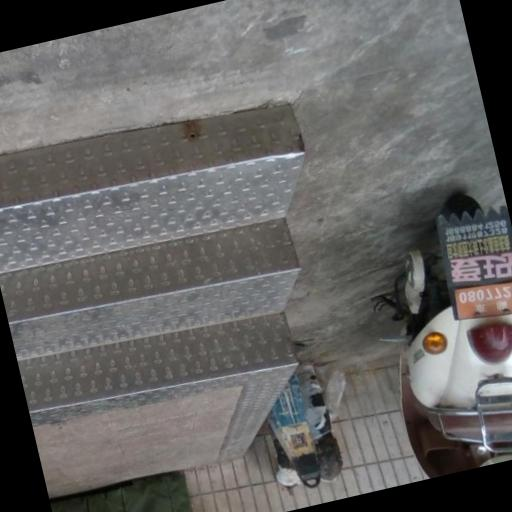stairs: (0, 106, 303, 459)
